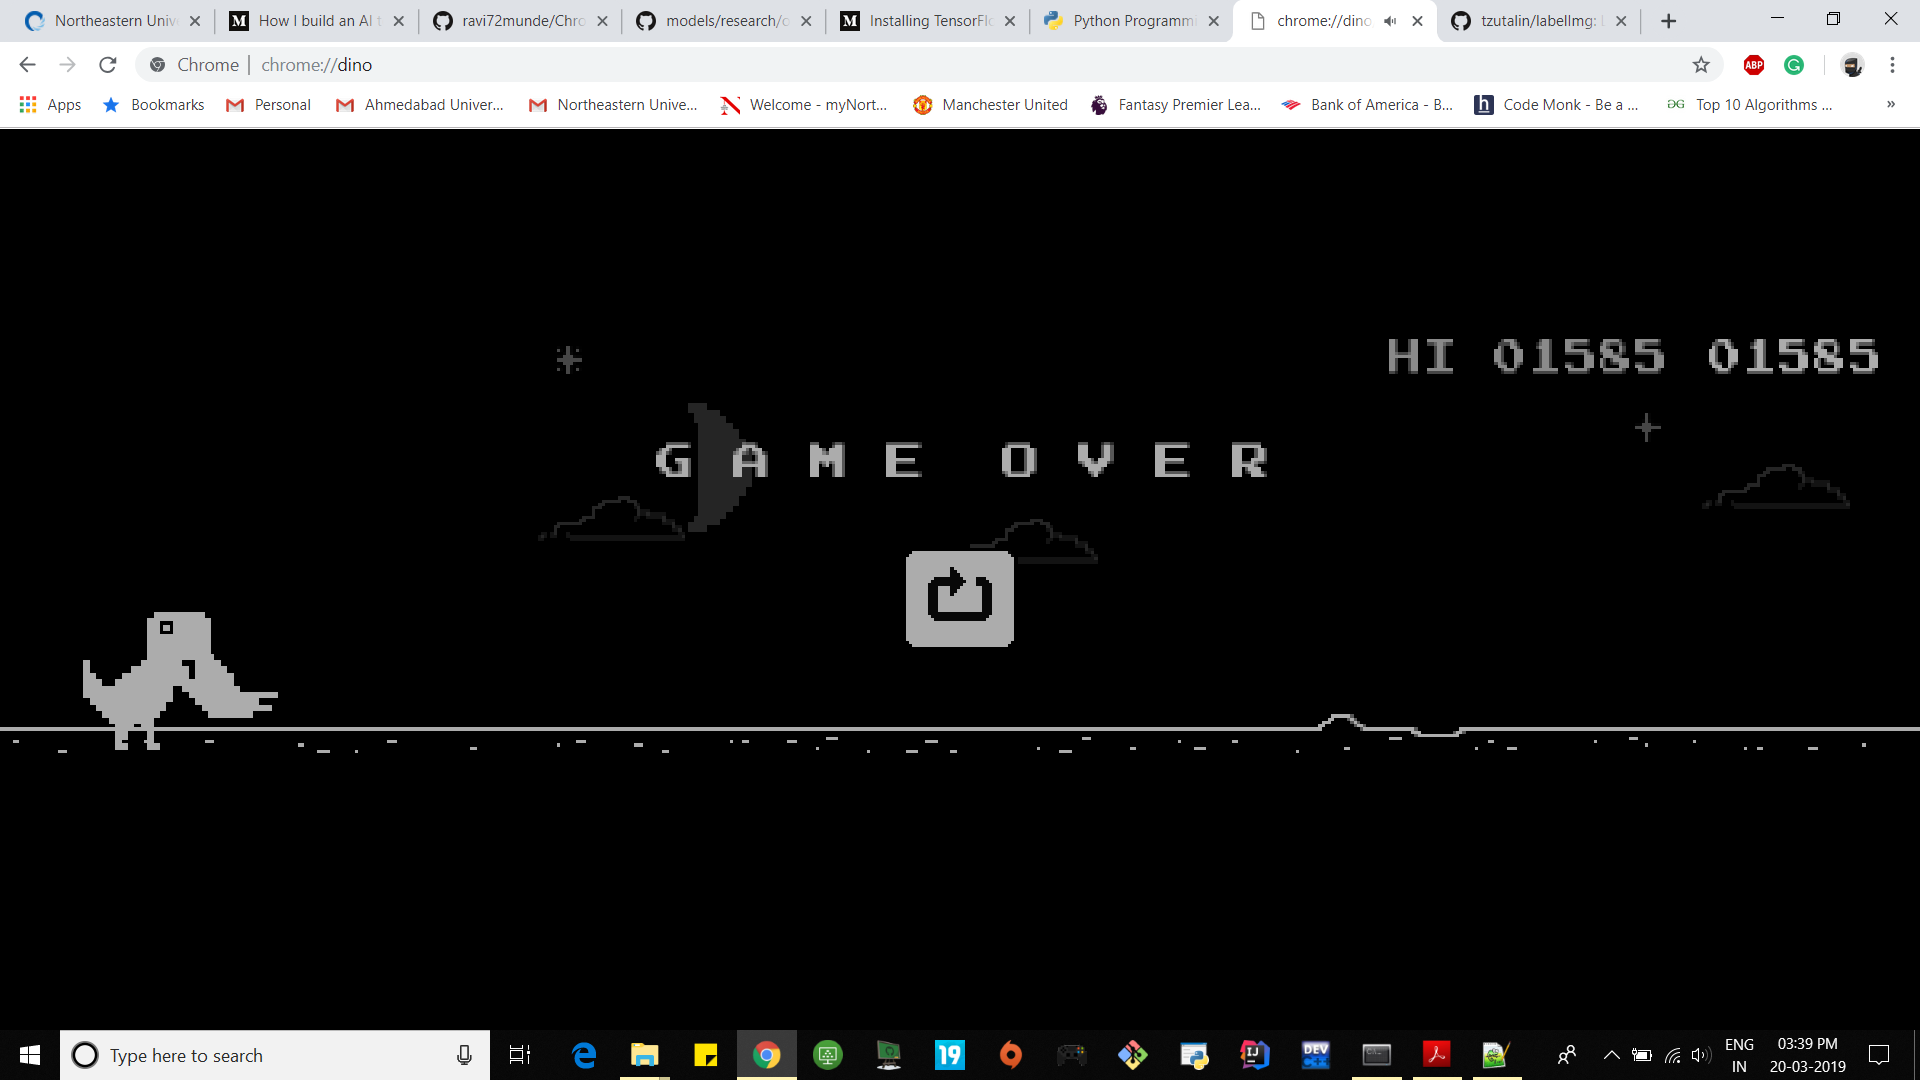bird: (179, 650, 276, 720)
dino: (80, 608, 211, 752)
gameover: (906, 551, 1015, 647)
